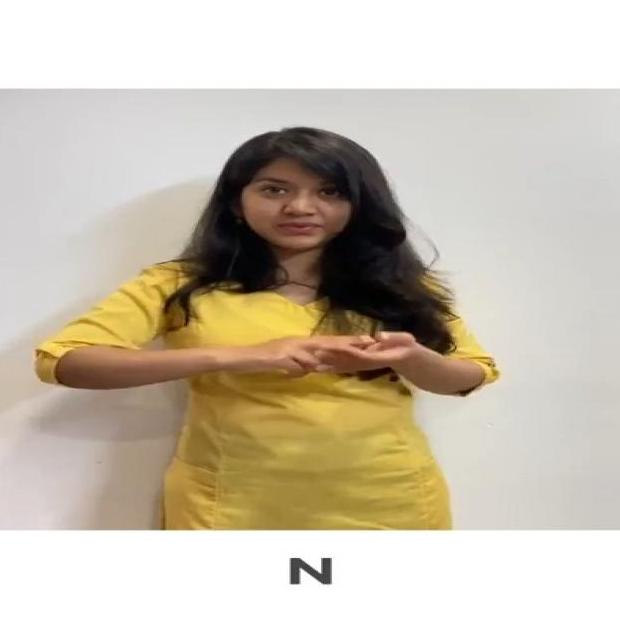M: (207, 319, 450, 391)
